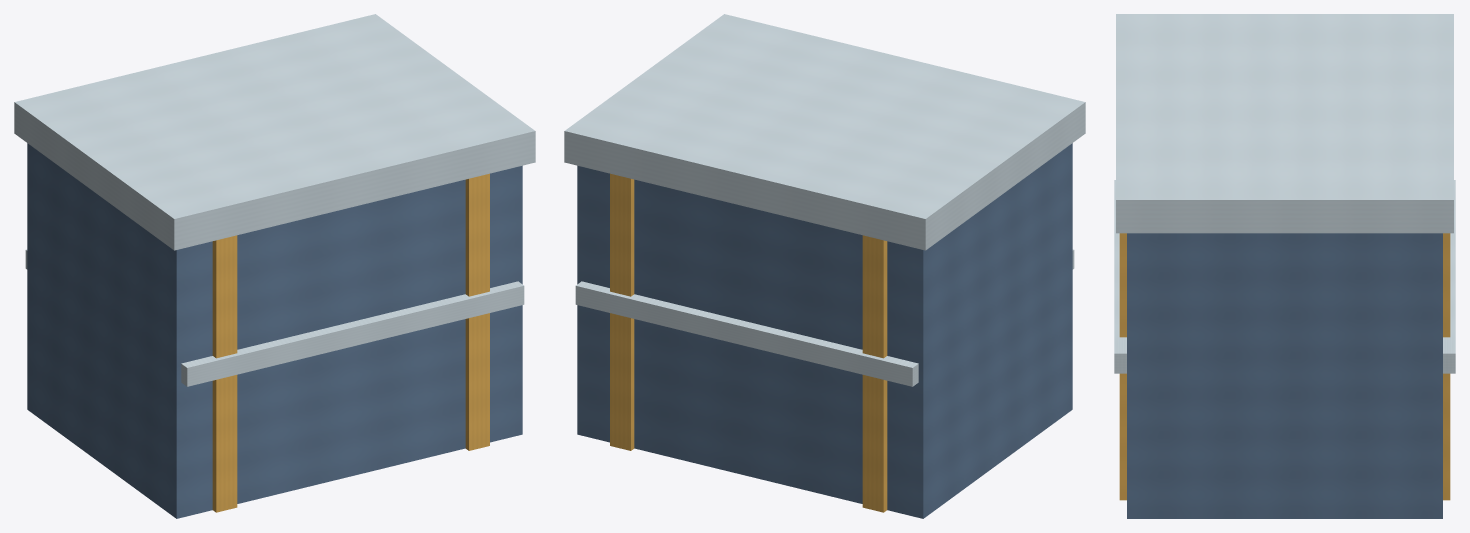
Rendered from atlas100-polar-util02.lod1.glb.
3 views of the same model, side by side, from view 1: azimuth 30°, elevation 25°; view 2: azimuth 150°, elevation 25°; view 3: azimuth 270°, elevation 25° (orthographic). The views are drawn at different scales.
Parts seen in each view (by area): view 1: atlas100-polar-util02:part-000, atlas100-polar-util02:part-005, atlas100-polar-util02:part-004, atlas100-polar-util02:part-001, atlas100-polar-util02:part-002; view 2: atlas100-polar-util02:part-000, atlas100-polar-util02:part-005, atlas100-polar-util02:part-003, atlas100-polar-util02:part-001, atlas100-polar-util02:part-002; view 3: atlas100-polar-util02:part-000, atlas100-polar-util02:part-005, atlas100-polar-util02:part-002, atlas100-polar-util02:part-003, atlas100-polar-util02:part-004.
Part boxes in pixels (x1,y1,x2,y2): atlas100-polar-util02:part-000: [27, 143, 522, 518]; atlas100-polar-util02:part-005: [14, 14, 535, 250]; atlas100-polar-util02:part-004: [181, 281, 524, 386]; atlas100-polar-util02:part-001: [212, 235, 237, 512]; atlas100-polar-util02:part-002: [465, 173, 489, 450]; atlas100-polar-util02:part-000: [577, 143, 1072, 518]; atlas100-polar-util02:part-005: [564, 14, 1085, 250]; atlas100-polar-util02:part-003: [575, 281, 918, 386]; atlas100-polar-util02:part-001: [862, 235, 887, 512]; atlas100-polar-util02:part-002: [610, 173, 634, 450]; atlas100-polar-util02:part-000: [1127, 233, 1442, 518]; atlas100-polar-util02:part-005: [1116, 14, 1453, 233]; atlas100-polar-util02:part-002: [1119, 233, 1450, 500]; atlas100-polar-util02:part-003: [1443, 180, 1455, 373]; atlas100-polar-util02:part-004: [1114, 180, 1126, 373].
Size of the model in its own units: 1.2 by 0.97 by 0.93.
Materials: 3 (3 with a texture image).
